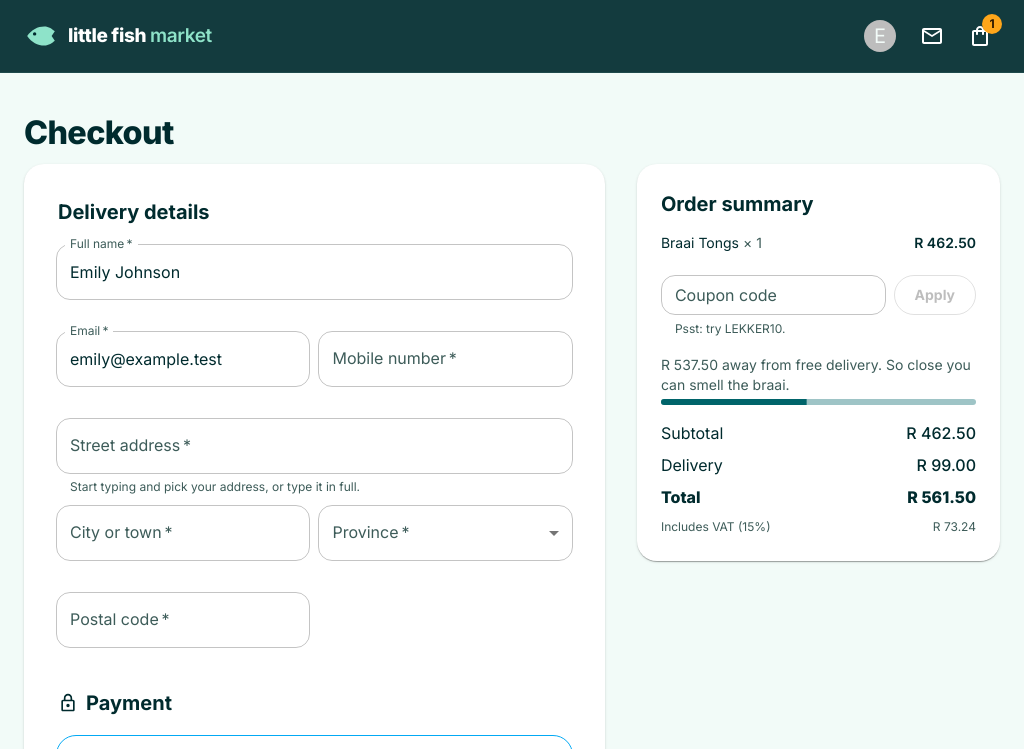
Scenario: Address search at checkout (integration) › still lets you type an address when the search service is down
In the dropdown labelled "Street address *": (314, 446) [65,427,564,465], type "7 Vilakazi Street"
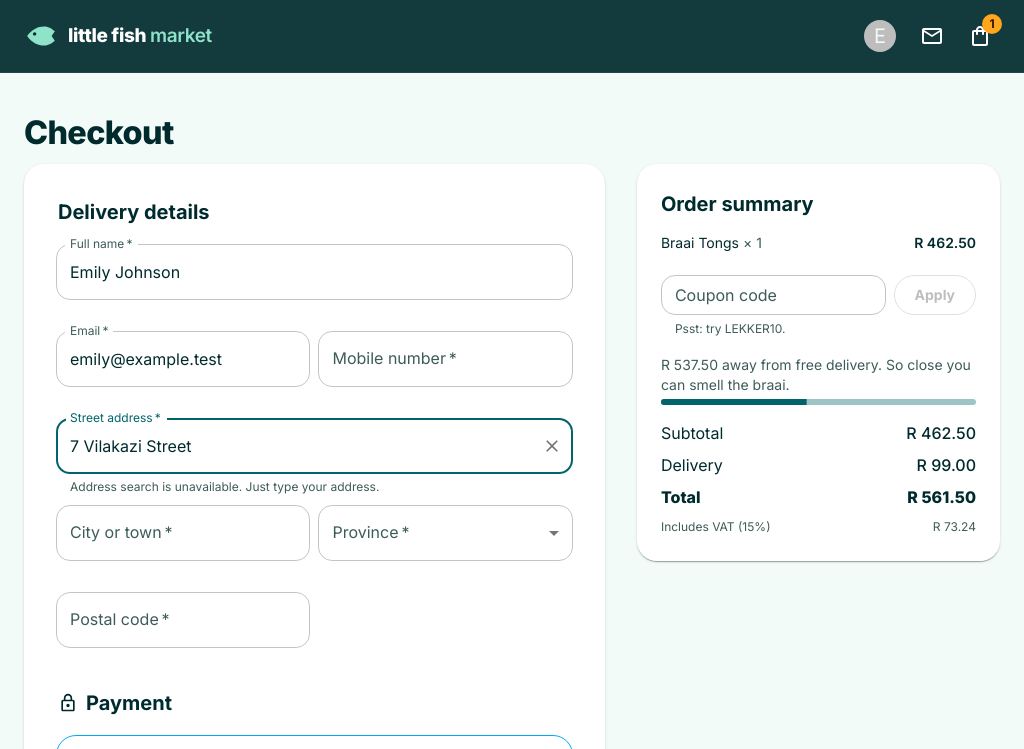
Expected: the text "Address search is unavailable. Just type your address." is shown, [70,479,379,494]
